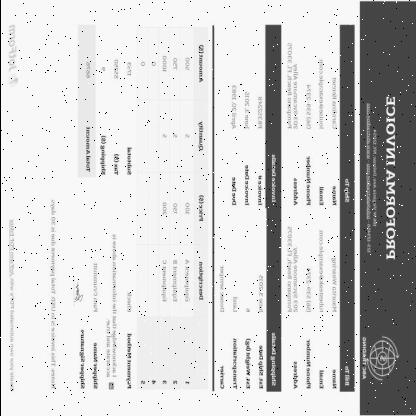Paragraph: (285, 40, 351, 209), (284, 224, 350, 392), (217, 264, 277, 392), (81, 48, 134, 182), (228, 83, 277, 208), (364, 95, 396, 264), (104, 233, 116, 380), (48, 197, 56, 391), (7, 218, 14, 394), (90, 260, 98, 390), (124, 290, 131, 390), (77, 327, 85, 391), (6, 24, 16, 74), (362, 336, 366, 380)
Table: (137, 27, 207, 389)
